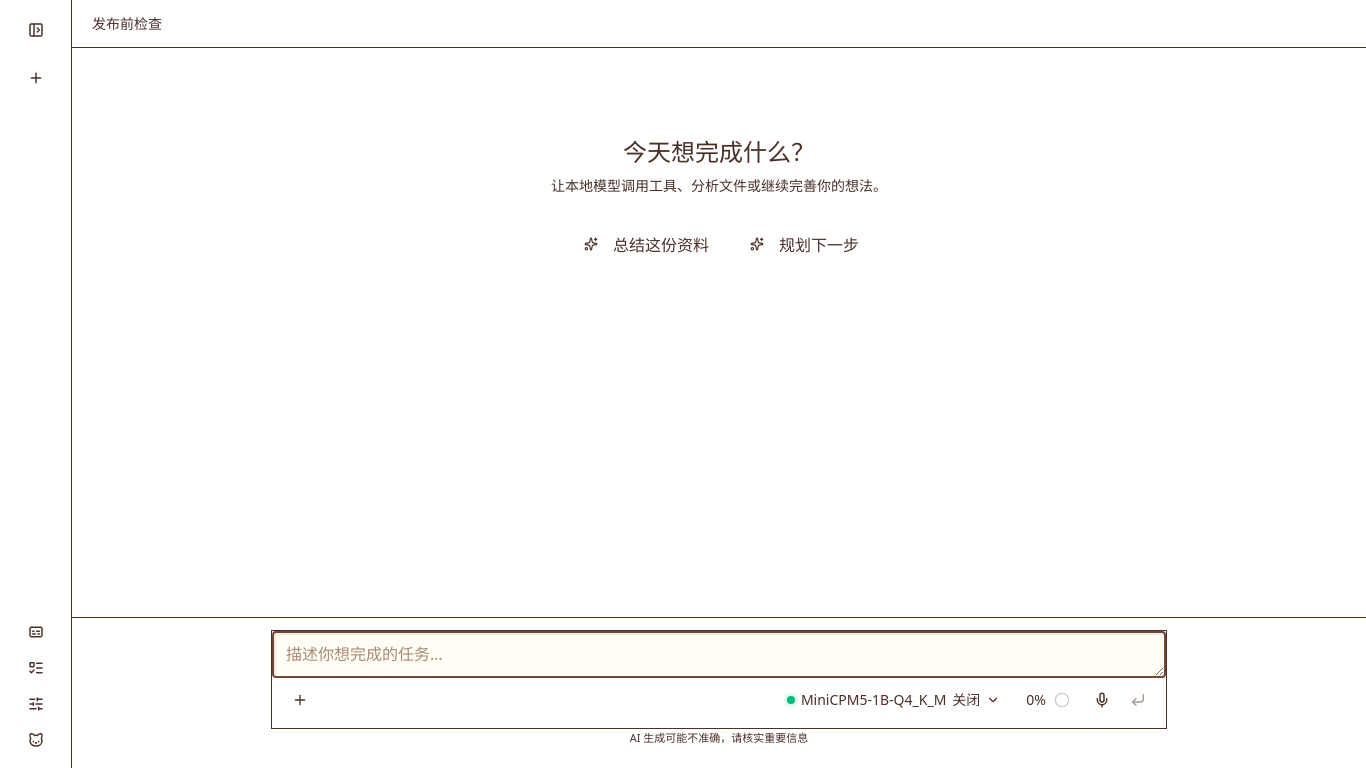
ChatPanel workbench › keeps the sidebar toggle actionable in compact mode
The width and height of the screenshot is (1366, 768).
What coordinates should you click on to do the following:
click the button named "展开侧栏"
I would click on:
 (36, 30)
Its box is [20,14,52,46].
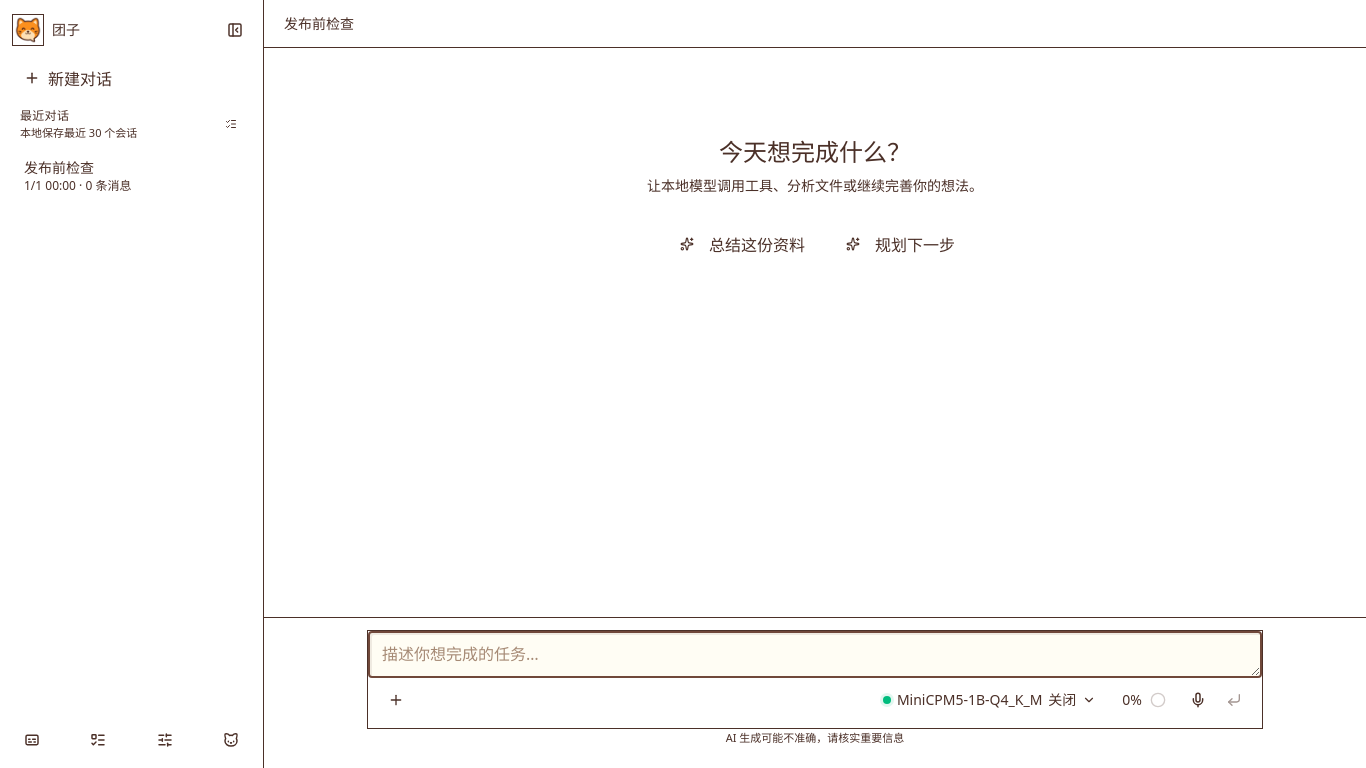
Now the button named "折叠侧栏" is shown, box [219,14,251,46]
